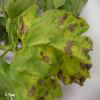Tomato Early blight leaf: (10, 7, 93, 99)
